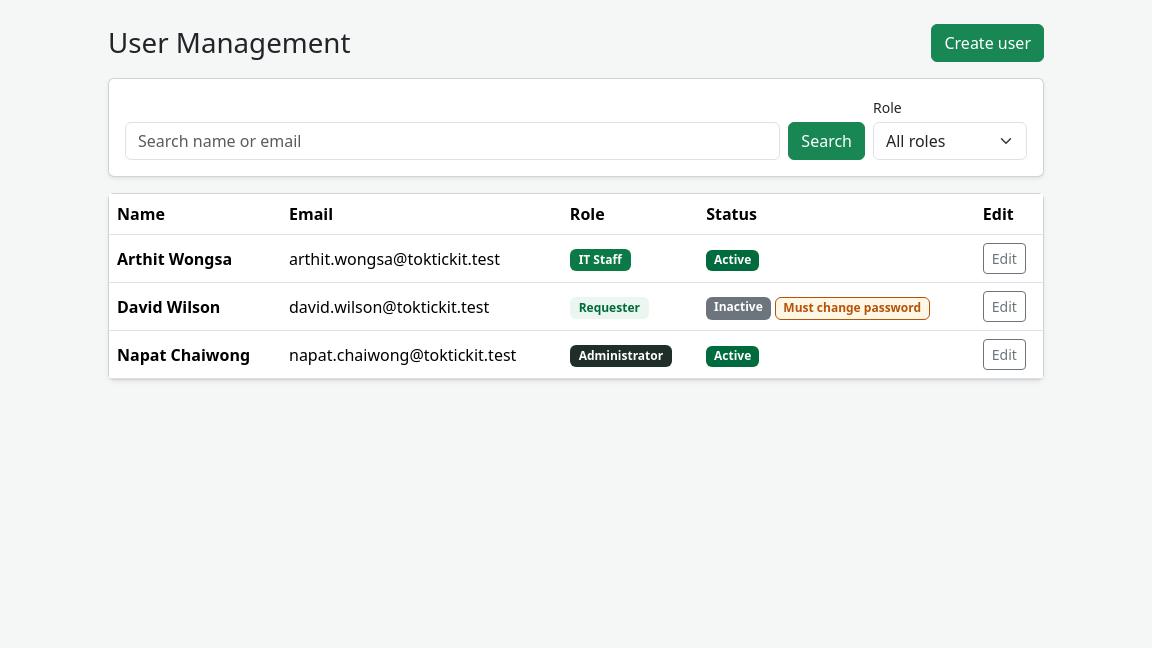
Test: UI-27 create user › shows 409 DUPLICATE_EMAIL under Email
Click the button "Create user" at (988, 43), box 932,24 -> 1044,62
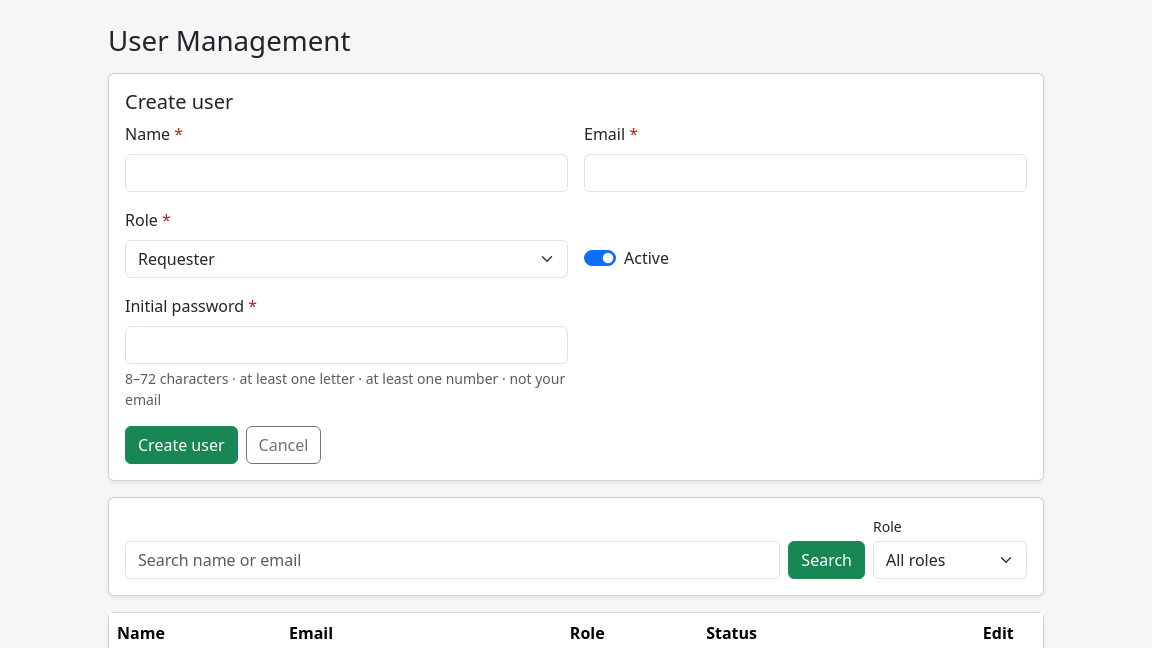
Type "Second Arthit" into the field labelled "Name *" at (346, 173), box 125,154 -> 568,192
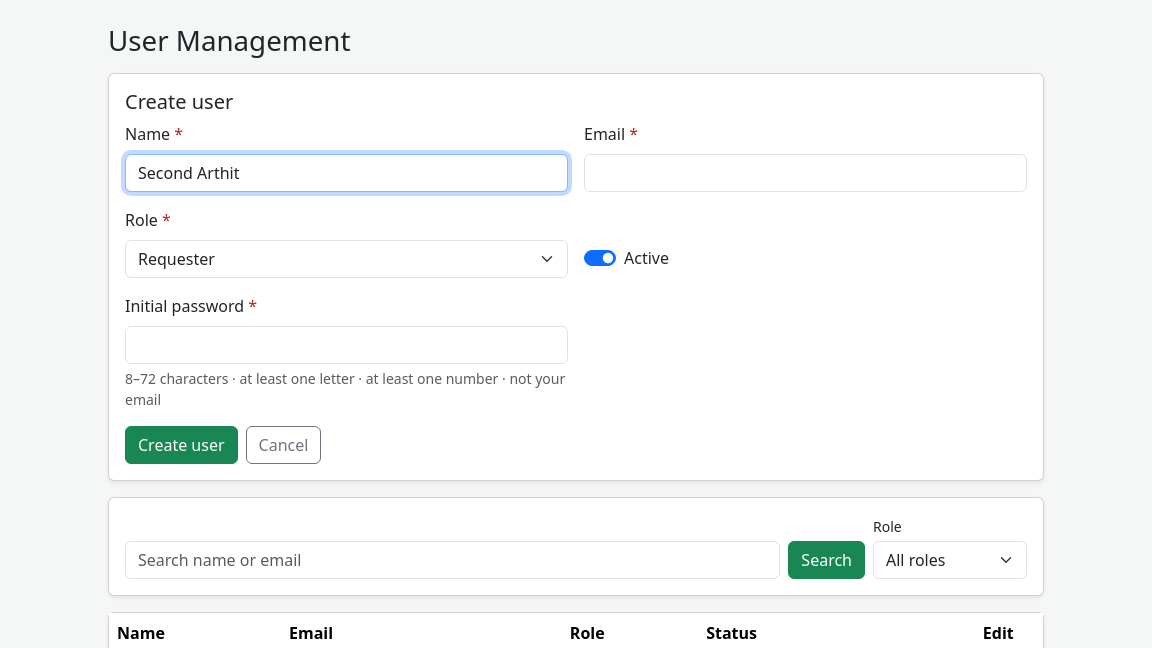
Type "ARTHIT.wongsa@toktickit.test" into the field labelled "Email *" at (806, 173), box 584,154 -> 1027,192
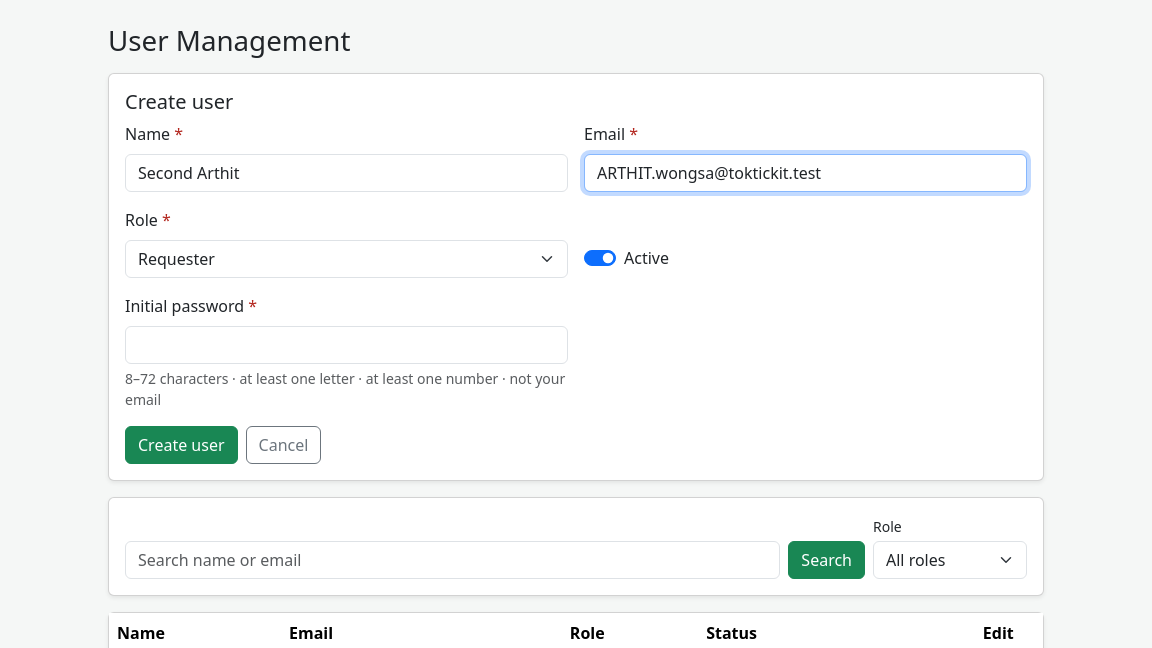
Type "Firstday2026" into the password field labelled "Initial password *" at (346, 345), box 125,326 -> 568,364
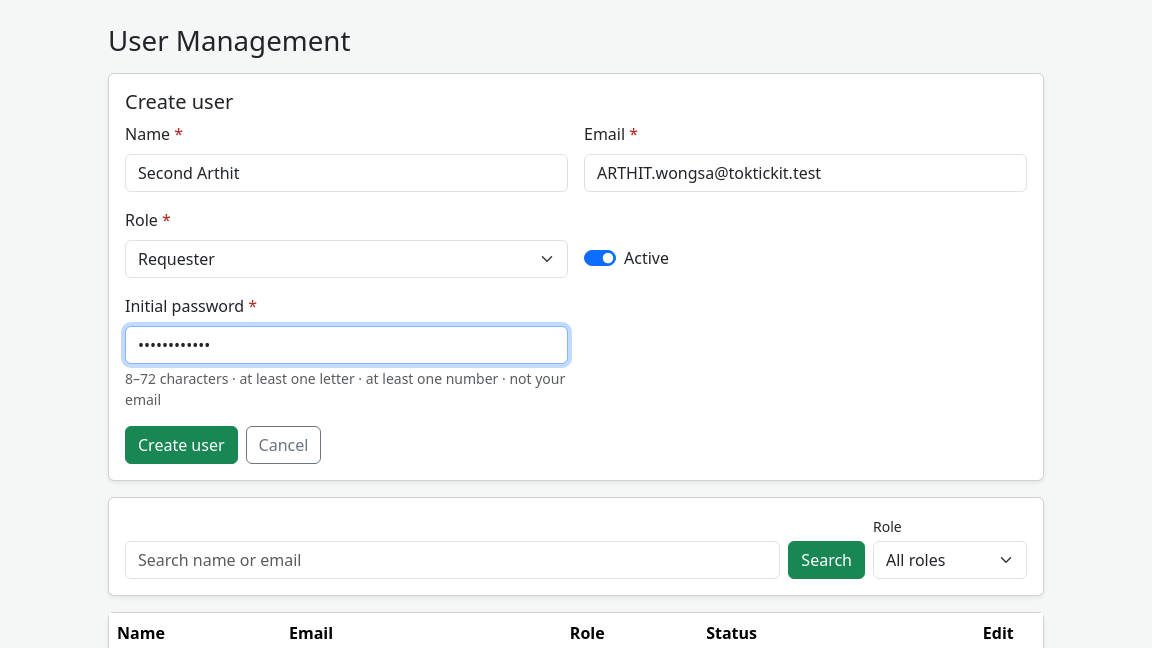
Click the button "Create user" at (181, 445), box 125,426 -> 238,464
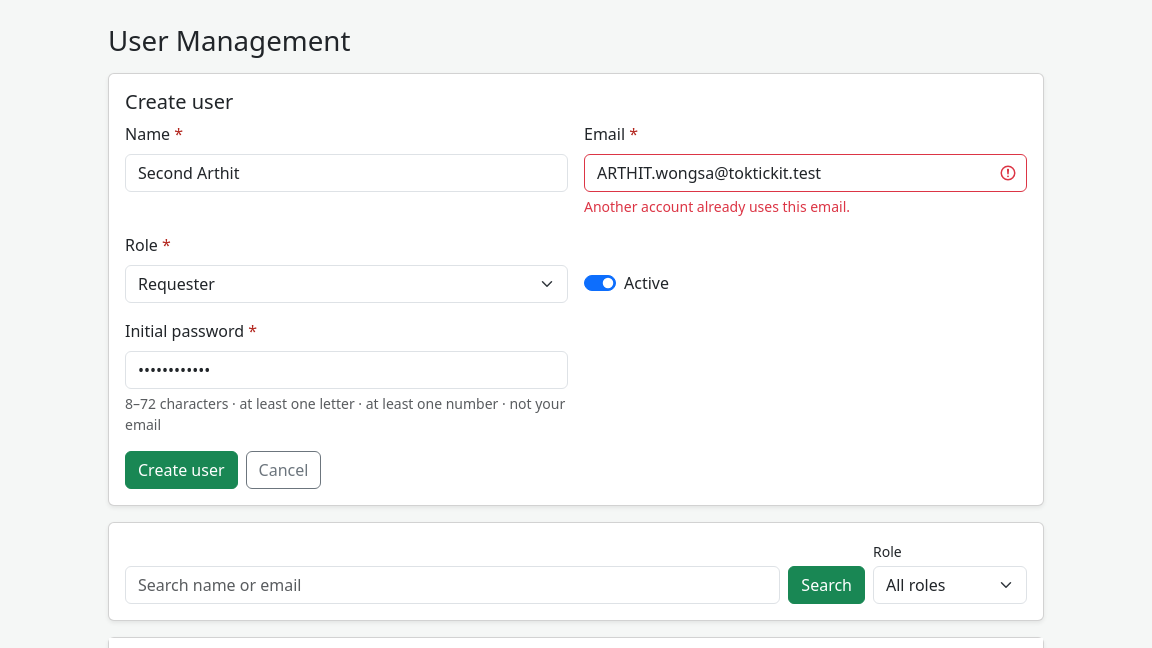
Expected: the text "Another account already uses this email." is shown, 584,197 -> 850,216
